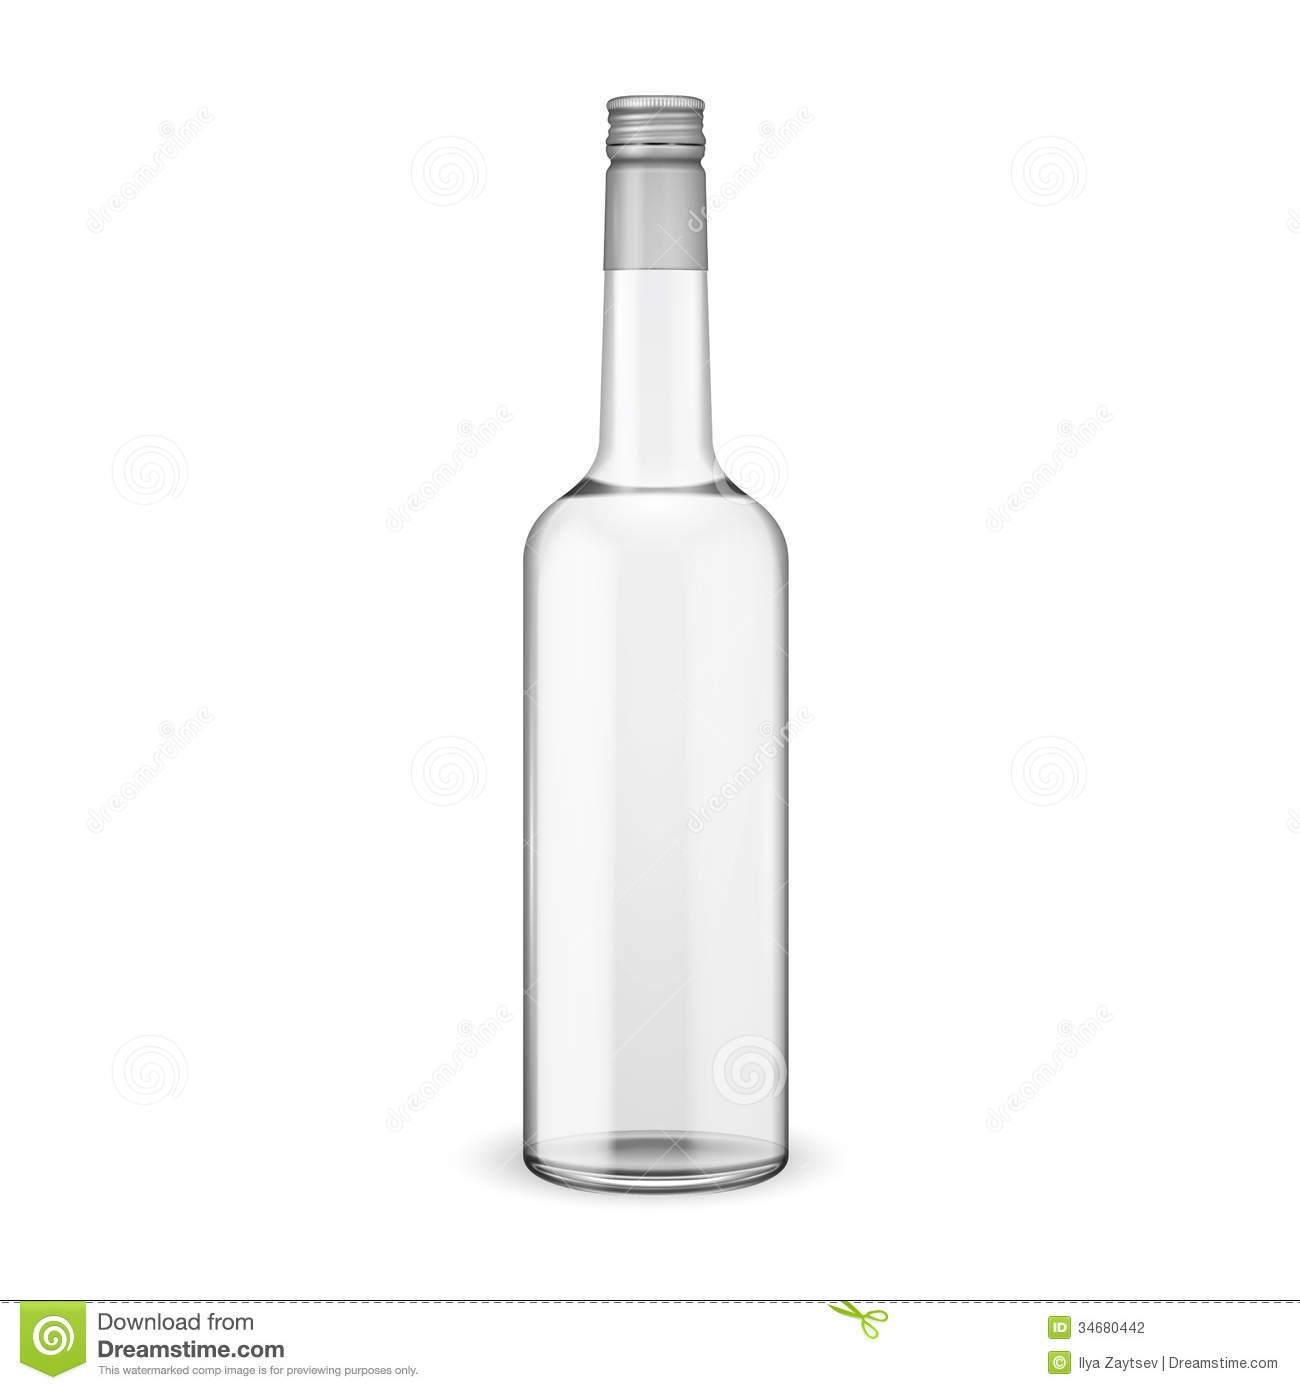emptybottle: (527, 99, 791, 1186)
